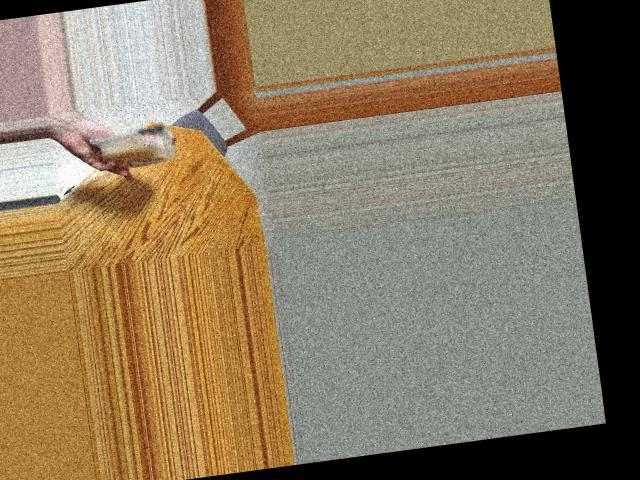cheese: (95, 116, 176, 180)
